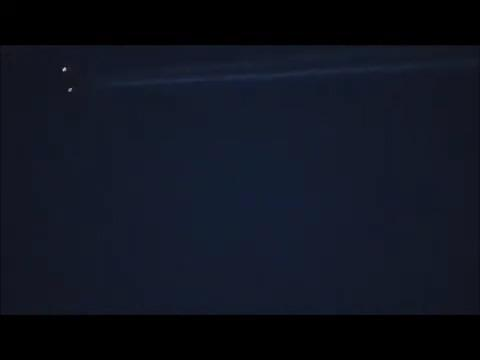Plane: (46, 45, 397, 106)
